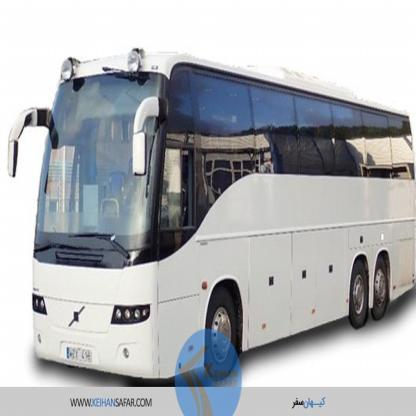Bus: (0, 18, 416, 374)
